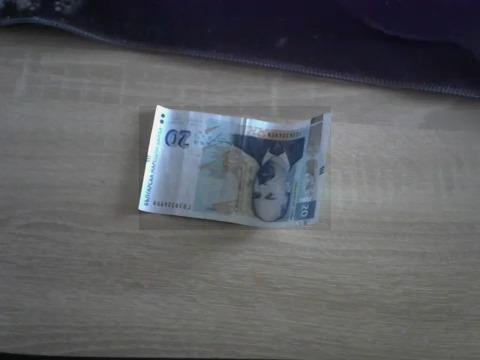20leva: (139, 106, 331, 230)
